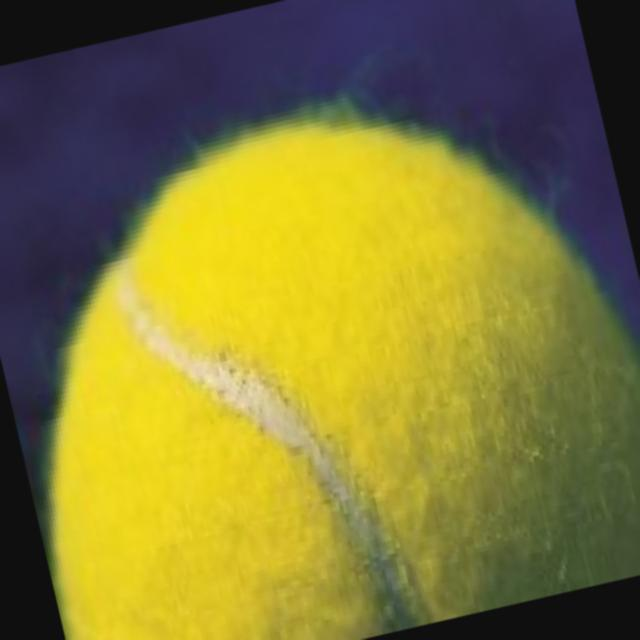Tennis Ball: (48, 101, 640, 640)
